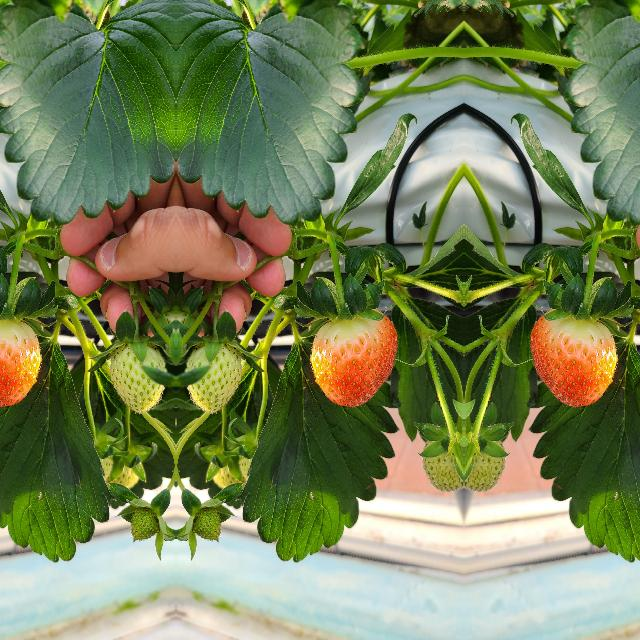Health_25: (182, 334, 248, 414), (102, 334, 168, 414)
Health_75: (310, 308, 396, 406), (530, 308, 616, 406), (0, 308, 40, 406)
